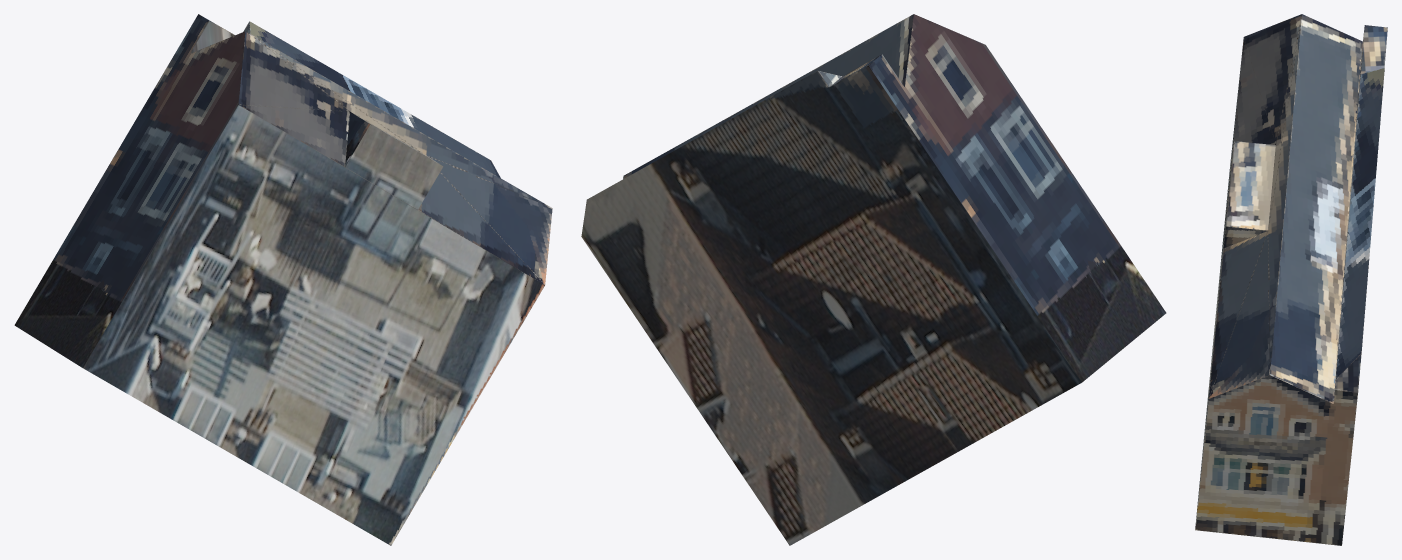
3 views of the same model, side by side, from view 1: azimuth 30°, elevation 25°; view 2: azimuth 150°, elevation 25°; view 3: azimuth 270°, elevation 25° (orthographic). The views are drawn at different scales.
Parts seen in each view (by area): view 1: BAG_0599100000671720 (×6); view 2: BAG_0599100000671720 (×2); view 3: BAG_0599100000671720 (×6).
Part boxes in pixels (box(x1,y1,x2,y2)): BAG_0599100000671720 (×6): box(14, 14, 552, 545); BAG_0599100000671720 (×2): box(581, 14, 1166, 545); BAG_0599100000671720 (×6): box(1195, 14, 1387, 545).
Size of the model in its own units: 17.3 by 17.15 by 6.15.
1 material, 1 textured.
